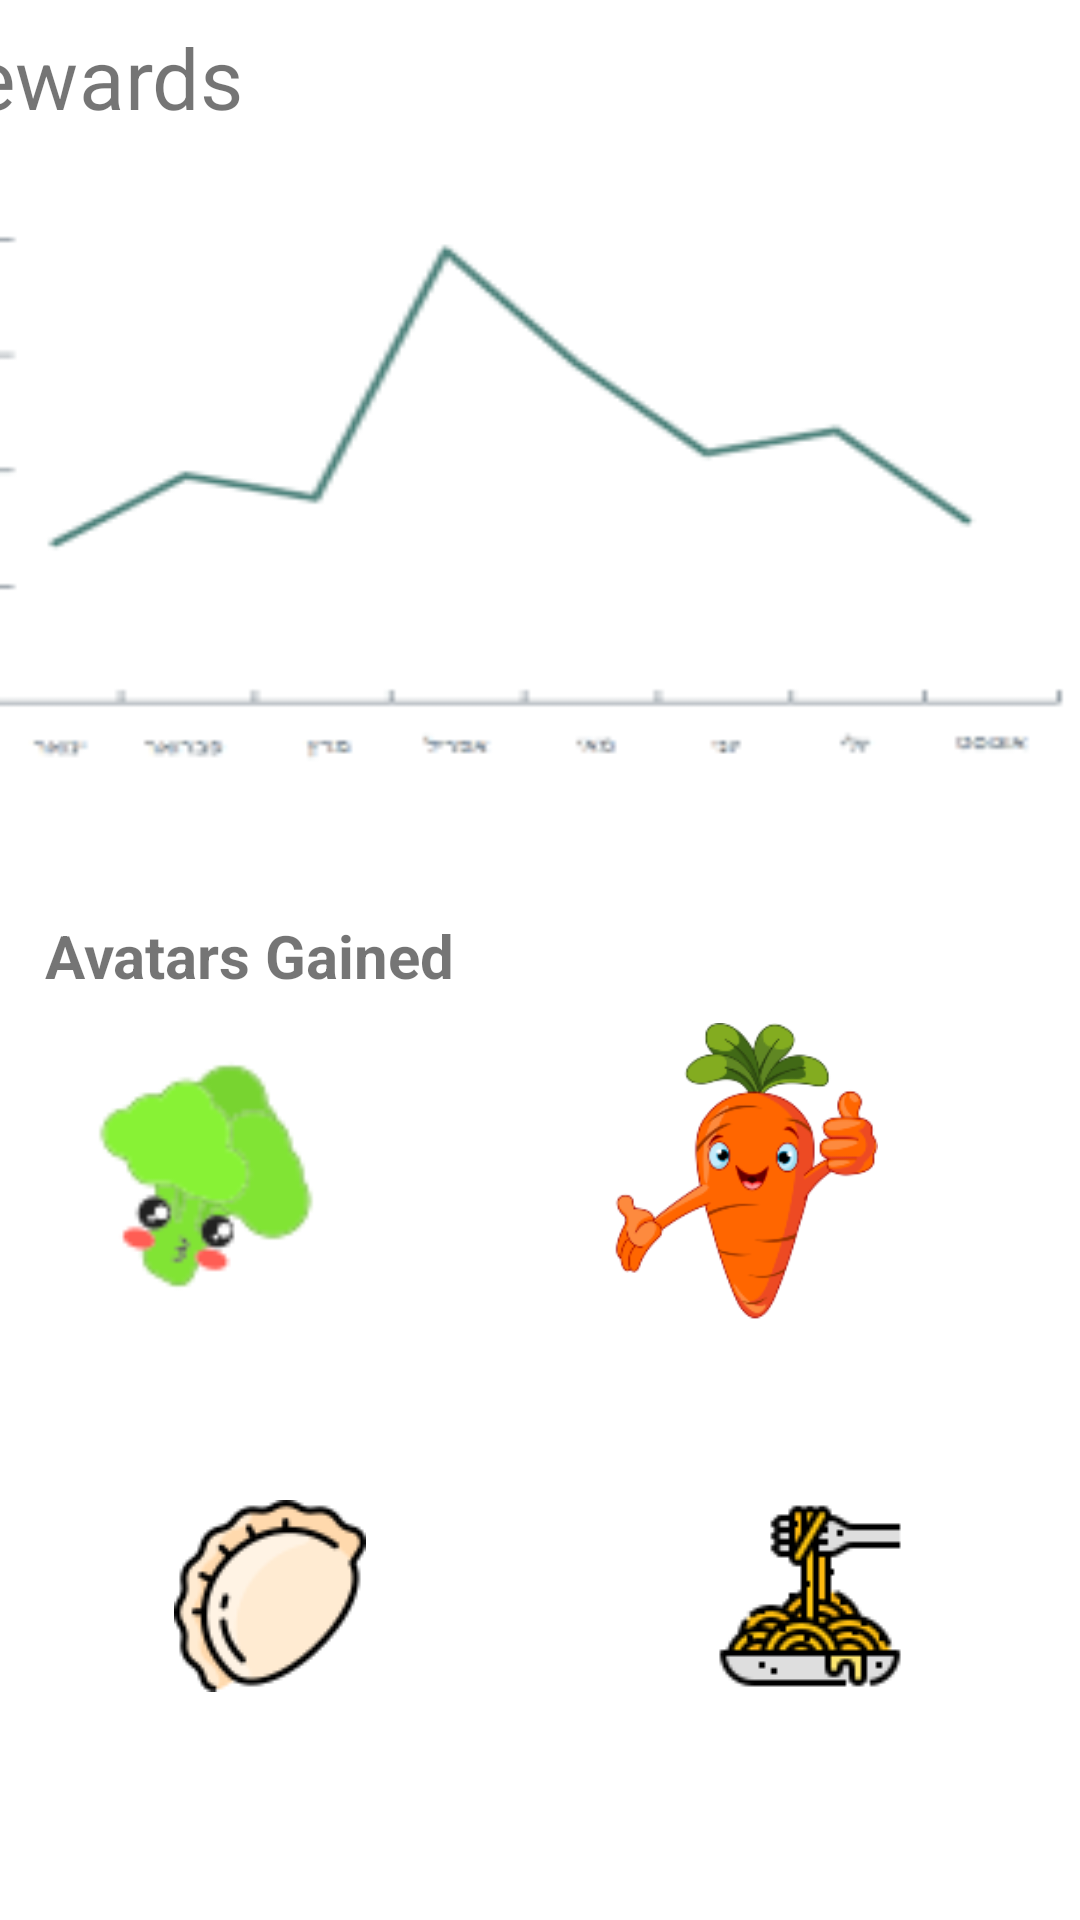

Where icons sit on this 1080x1920 app screen, as (x1, y1, x2, y2):
broccoli: (99, 1065, 313, 1287)
carrot: (615, 1023, 878, 1319)
gyoza: (174, 1500, 366, 1692)
spaghetti: (719, 1505, 901, 1687)
